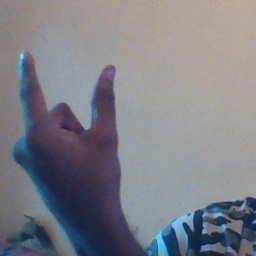U: (9, 47, 130, 198)
